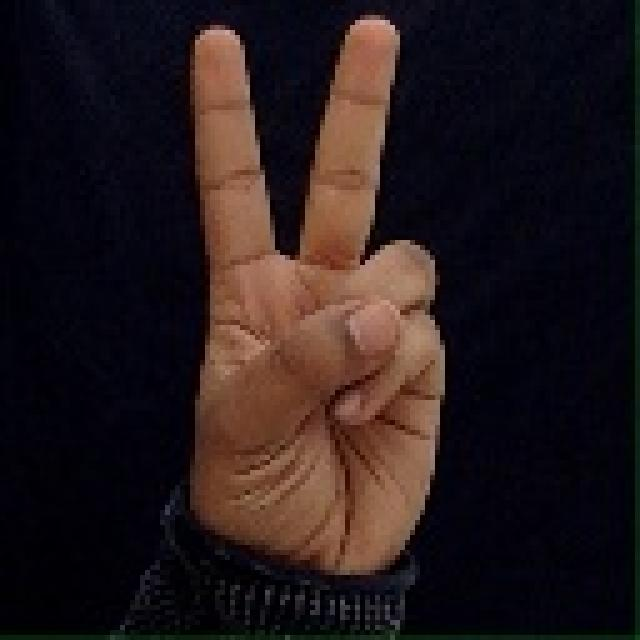Two: (138, 4, 480, 604)
